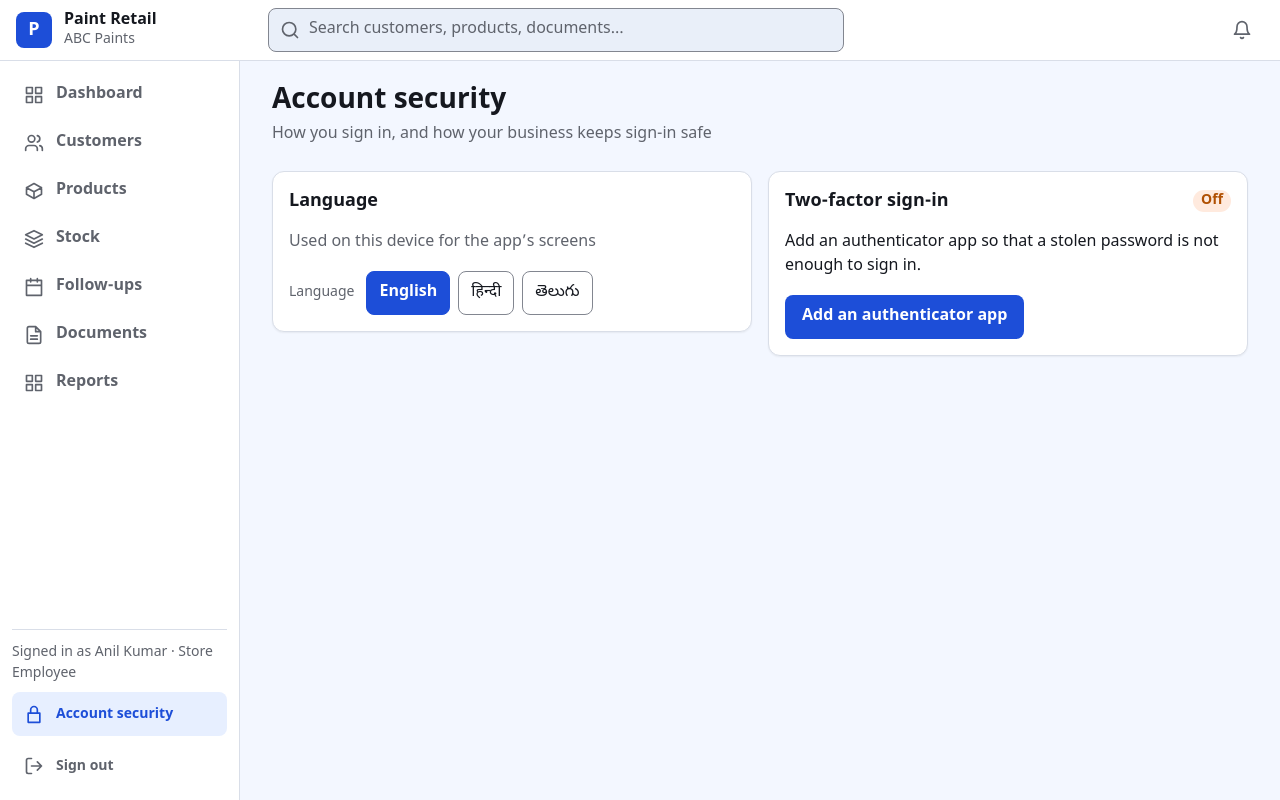
Scenario: choosing a language › is part of Account security, and says so in the new language
Click the button "తెలుగు": (558, 293) [522,271,593,315]
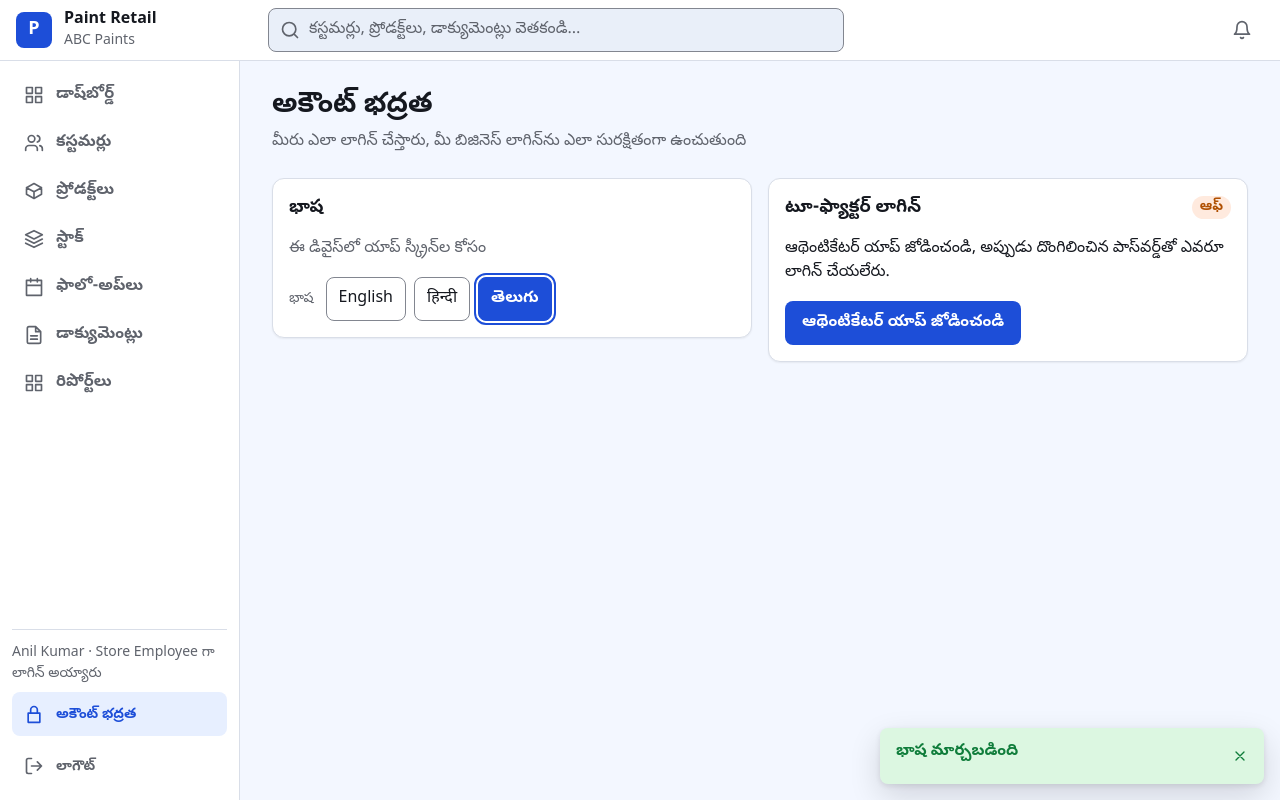
Now the text "భాష మార్చబడింది" is shown, box [896,741,1018,762]
Now the heading "అకౌంట్ భద్రత" is shown, box [272,87,433,123]
